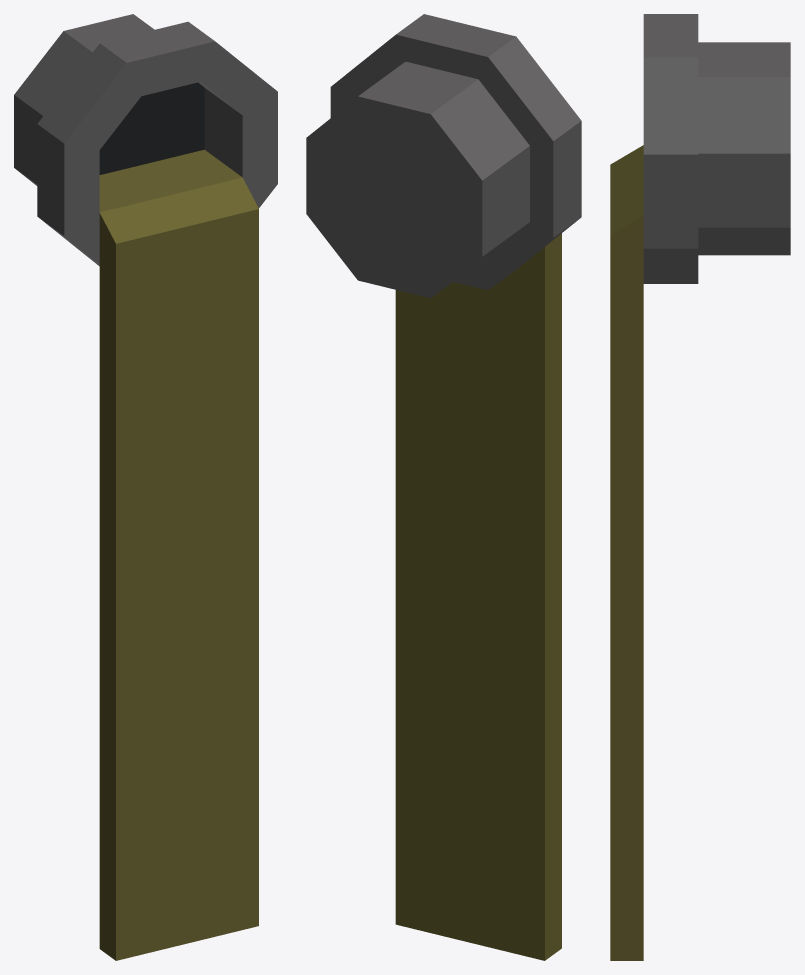
The model's file is SM_Env_Pipe_Water_01.fbx.
The picture shows the model from 3 angles, left to right: view 1: azimuth 30°, elevation 25°; view 2: azimuth 150°, elevation 25°; view 3: azimuth 270°, elevation 25°; orthographic projection. The views are drawn at different scales.
Visible parts, largest first — view 1: SM_Env_Pipe_WaterExtend_01, SM_Env_Pipe_Water_01; view 2: SM_Env_Pipe_WaterExtend_01, SM_Env_Pipe_Water_01; view 3: SM_Env_Pipe_Water_01, SM_Env_Pipe_WaterExtend_01.
Part boxes in pixels (x1=…): SM_Env_Pipe_WaterExtend_01: x1=99, y1=270, x2=258, y2=960; SM_Env_Pipe_Water_01: x1=14, y1=14, x2=277, y2=304; SM_Env_Pipe_WaterExtend_01: x1=395, y1=264, x2=561, y2=960; SM_Env_Pipe_Water_01: x1=306, y1=14, x2=581, y2=298; SM_Env_Pipe_Water_01: x1=610, y1=14, x2=790, y2=297; SM_Env_Pipe_WaterExtend_01: x1=610, y1=297, x2=643, y2=960.
Bounding box in the file's own units: 57.8 × 227 × 41.79.
